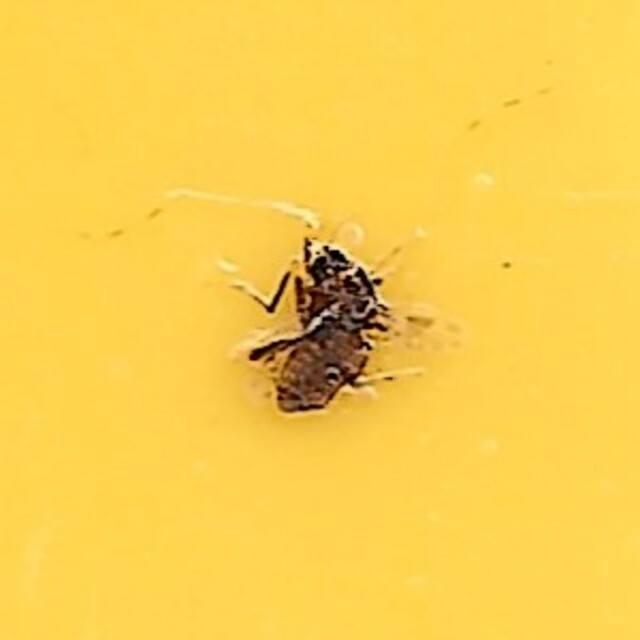Nematocera: (213, 208, 427, 432)
